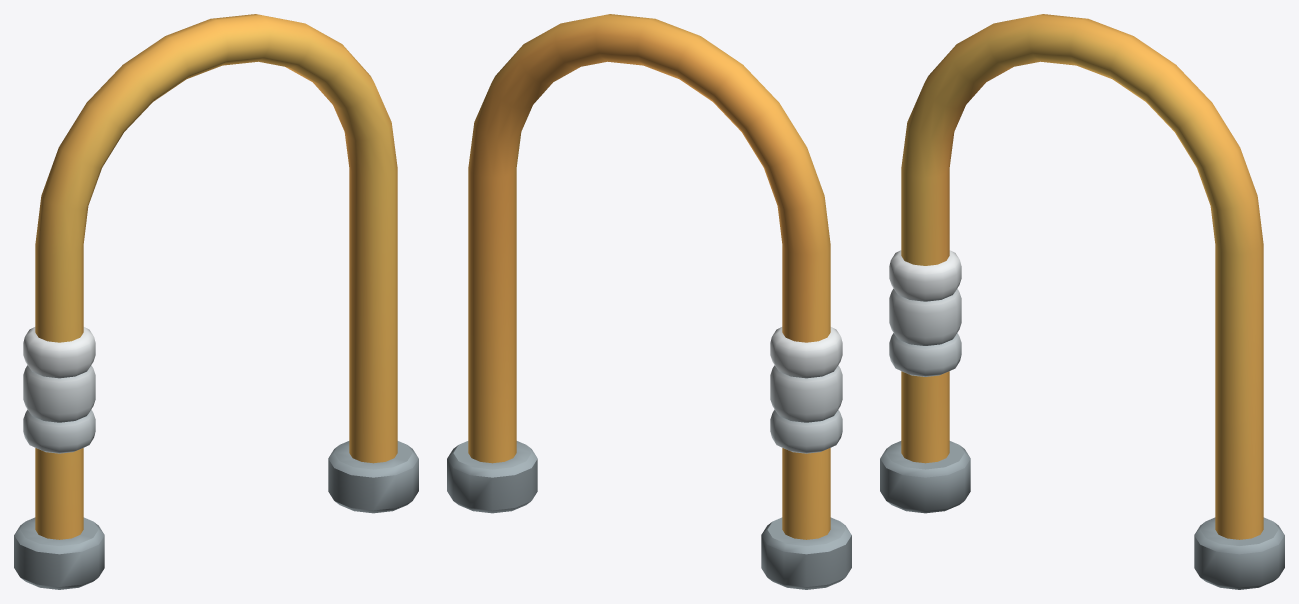
Rendered from arch_tall_yellow.glb.
3 views of the same model, side by side, from view 1: azimuth 30°, elevation 25°; view 2: azimuth 150°, elevation 25°; view 3: azimuth 330°, elevation 25° (orthographic).
Parts seen in each view (by area): view 1: arch_tall_yellow; view 2: arch_tall_yellow; view 3: arch_tall_yellow.
Part boxes in pixels (x1,y1,x2,y2): arch_tall_yellow: [14, 14, 418, 589]; arch_tall_yellow: [447, 14, 851, 589]; arch_tall_yellow: [880, 14, 1284, 589].
Size of the model in its own units: 3.75 by 4.7 by 0.75.
1 material, 1 textured.
